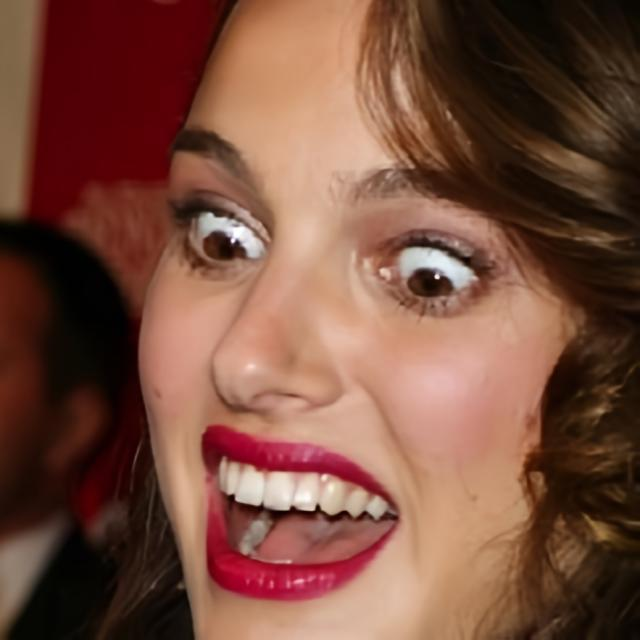surprise: (134, 1, 640, 640)
